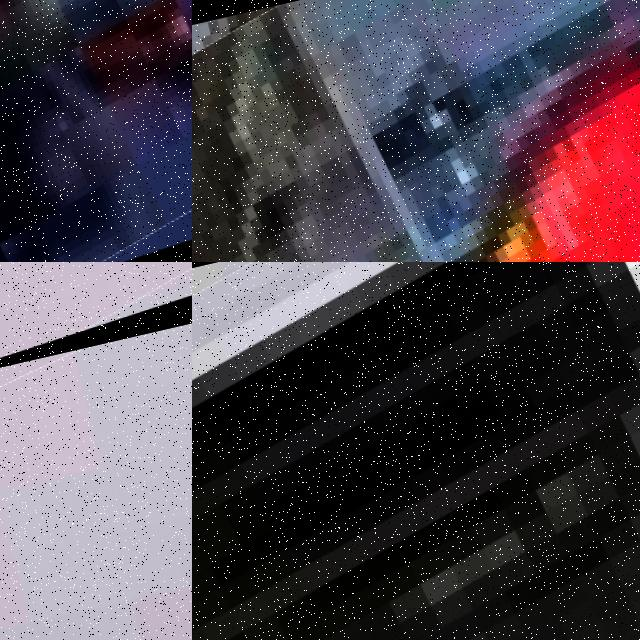drone: (192, 262, 640, 640), (192, 0, 640, 262), (0, 0, 192, 262), (0, 262, 192, 391)
